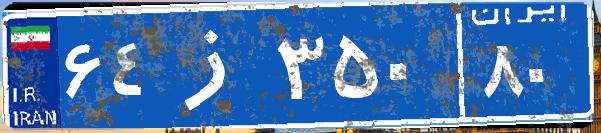0: (385, 28, 445, 110), (525, 38, 570, 115)
3: (273, 28, 330, 110)
4: (110, 28, 158, 105)
5: (330, 28, 385, 110)
6: (57, 26, 110, 107)
8: (475, 38, 525, 113)
ز: (158, 15, 273, 115)
